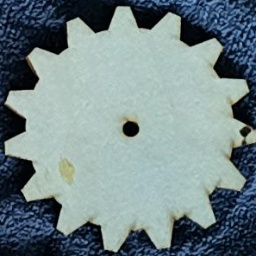Points: (238, 125, 252, 147)
